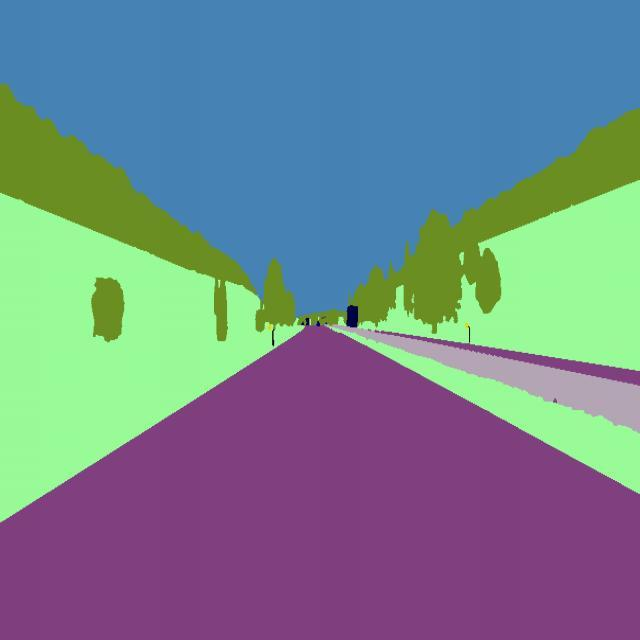safe: (345, 300, 359, 332)
